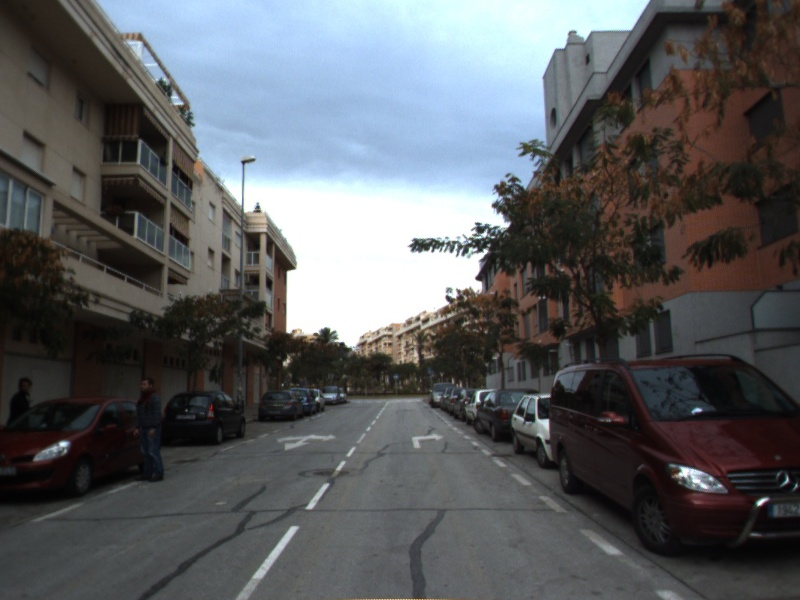RIGHT: (410, 430, 447, 450)
